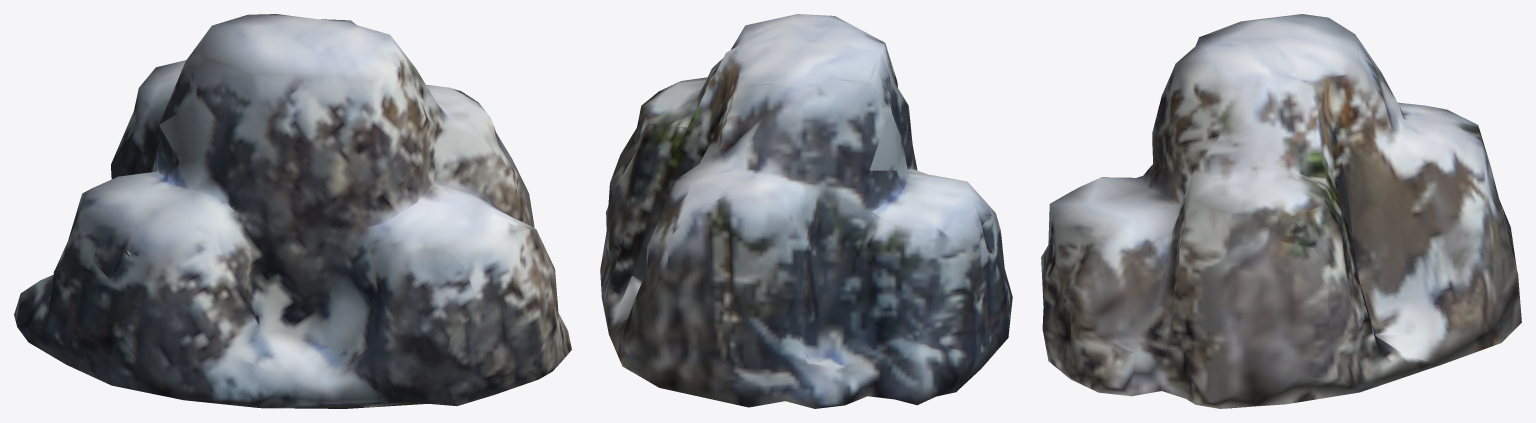
File: FirstRoom_SmallRock.fbx
3 renders of one model, left to right at view 1: azimuth 30°, elevation 25°; view 2: azimuth 150°, elevation 25°; view 3: azimuth 270°, elevation 25°, orthographic. The views are drawn at different scales.
Parts seen in each view (by area): view 1: FirstRoom_SmallRock_Mesh; view 2: FirstRoom_SmallRock_Mesh; view 3: FirstRoom_SmallRock_Mesh.
Part boxes in pixels (bbox=[...]): FirstRoom_SmallRock_Mesh: bbox=[14, 14, 571, 408]; FirstRoom_SmallRock_Mesh: bbox=[600, 14, 1012, 408]; FirstRoom_SmallRock_Mesh: bbox=[1041, 14, 1521, 408].
Size of the model in its own units: 5.84 by 3.87 by 6.
1 material, 1 textured.
